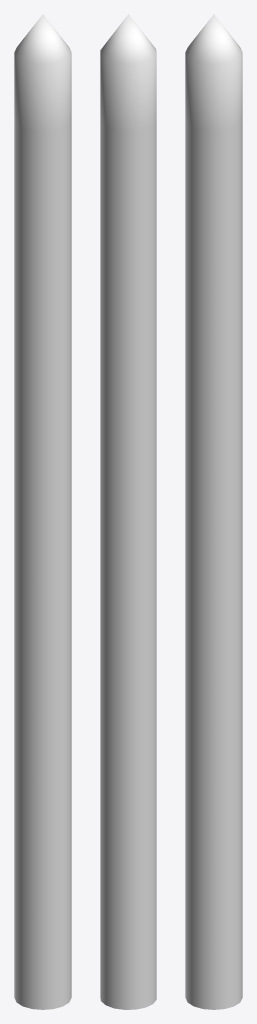
Rendered from blade.obj.
3 views of the same model, side by side, from view 1: azimuth 90°, elevation 25°; view 2: azimuth 150°, elevation 25°; view 3: azimuth 270°, elevation 25° (orthographic).
Visible parts, largest first — view 1: Cylinder; view 2: Cylinder; view 3: Cylinder.
Part boxes in pixels (bbox=[...]): Cylinder: bbox=[14, 14, 71, 1009]; Cylinder: bbox=[100, 14, 156, 1009]; Cylinder: bbox=[185, 14, 242, 1009].
Bounding box in the file's own units: 0.0716 × 1.36 × 0.0716.
